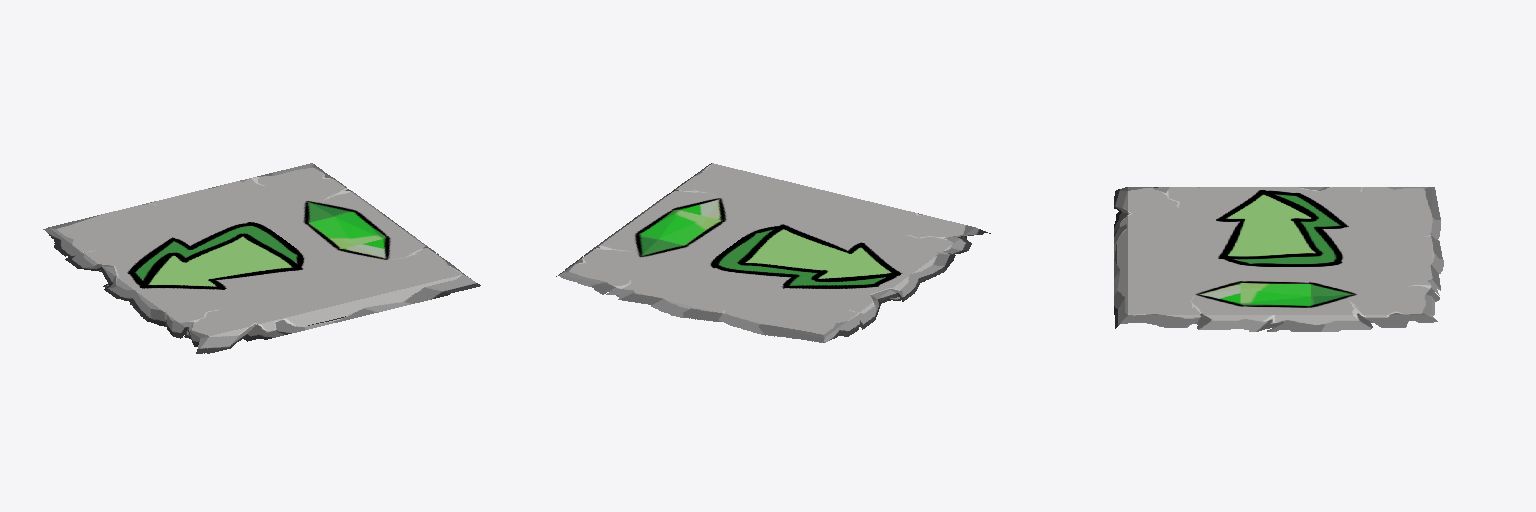
The picture shows the model from 3 angles: view 1: azimuth 30°, elevation 25°; view 2: azimuth 150°, elevation 25°; view 3: azimuth 270°, elevation 25°; orthographic projection.
Parts seen in each view (by area): view 1: Cube_Cube.001; view 2: Cube_Cube.001; view 3: Cube_Cube.001.
Boxes of the visible parts, box(x1,y1,x2,y2) form: Cube_Cube.001: box(43, 163, 480, 353); Cube_Cube.001: box(556, 163, 990, 342); Cube_Cube.001: box(1114, 187, 1443, 331).
Size of the model in its own units: 20 by 0.6826 by 20.
1 materials, 1 textured.